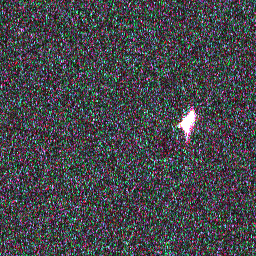ship: (178, 107, 198, 134)
